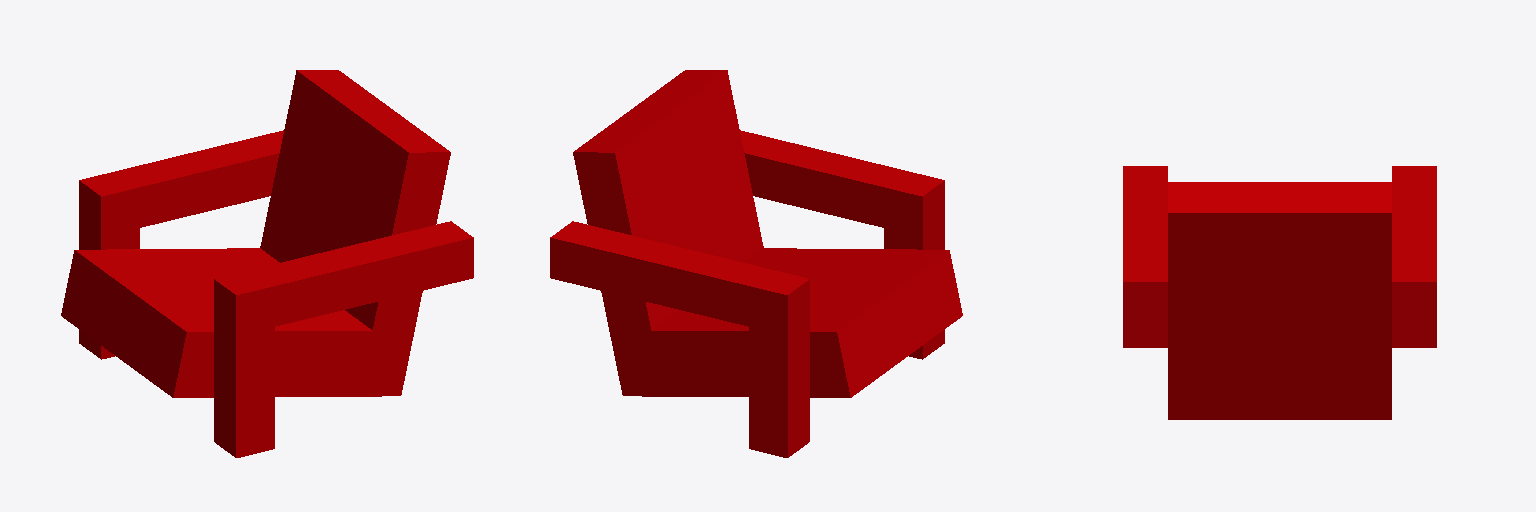
The model's file is redchair.obj.
3 renders of one model, left to right at view 1: azimuth 30°, elevation 25°; view 2: azimuth 150°, elevation 25°; view 3: azimuth 270°, elevation 25°, orthographic.
Parts seen in each view (by area): view 1: Cube, Cube.002, Cube.001; view 2: Cube, Cube.001, Cube.002; view 3: Cube, Cube.001, Cube.002.
Part boxes in pixels (bbox=[...]): Cube: bbox=[61, 70, 450, 397]; Cube.002: bbox=[214, 221, 473, 457]; Cube.001: bbox=[79, 130, 283, 359]; Cube: bbox=[573, 70, 962, 397]; Cube.001: bbox=[550, 221, 809, 457]; Cube.002: bbox=[740, 130, 944, 359]; Cube: bbox=[1168, 182, 1391, 419]; Cube.001: bbox=[1392, 166, 1436, 347]; Cube.002: bbox=[1123, 166, 1167, 347].
Bounding box in the file's own units: 2.85 × 2.37 × 2.8.